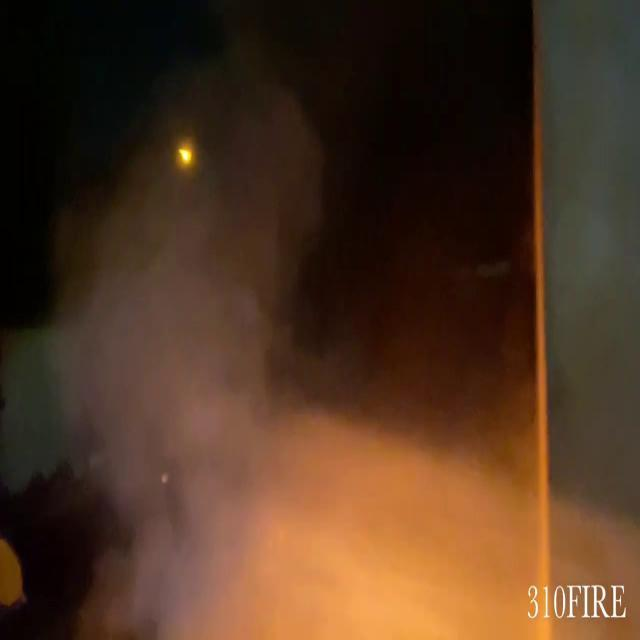Smoke: (24, 83, 530, 633)
